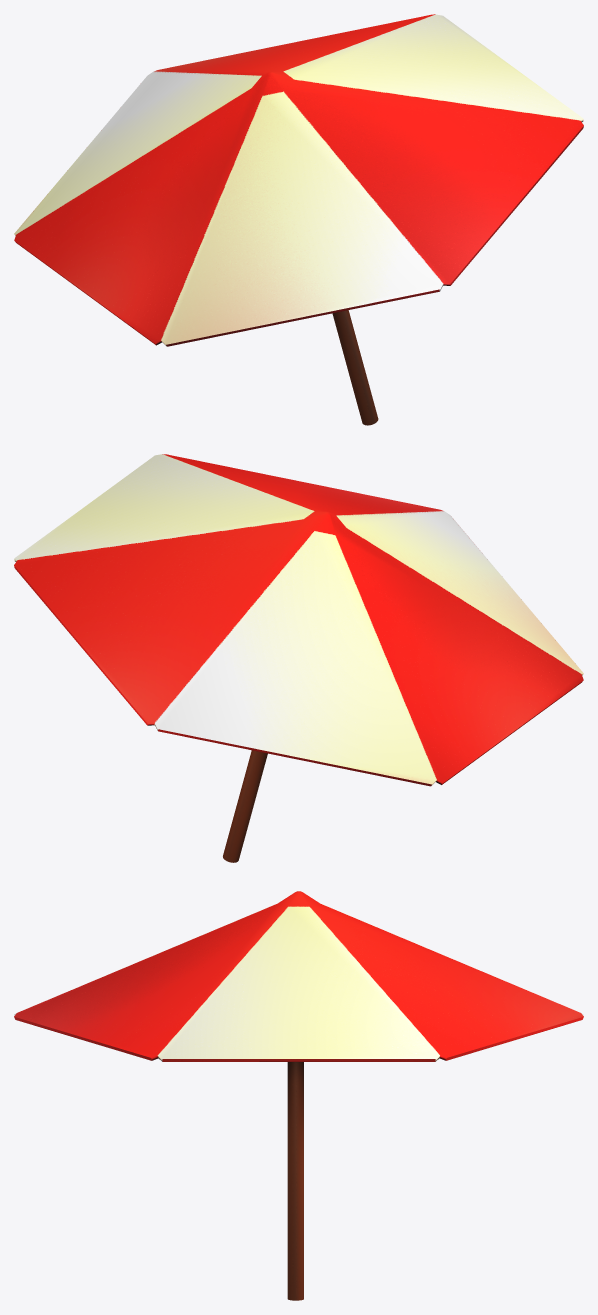
Rendered from umbrella.glb.
The picture shows the model from 3 angles, top to bottom: view 1: azimuth 30°, elevation 25°; view 2: azimuth 150°, elevation 25°; view 3: azimuth 270°, elevation 25°; orthographic projection. The views are drawn at different scales.
Parts seen in each view (by area): view 1: umbrella; view 2: umbrella; view 3: umbrella.
Boxes of the visible parts, bbox=[...] form: umbrella: bbox=[14, 14, 583, 425]; umbrella: bbox=[14, 454, 583, 862]; umbrella: bbox=[14, 891, 583, 1300].
Size of the model in its own units: 3.12 by 2.59 by 3.68.
3 materials, 3 textured.
